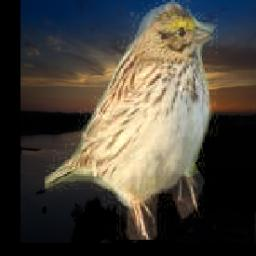Sparrow: (45, 0, 220, 241)
